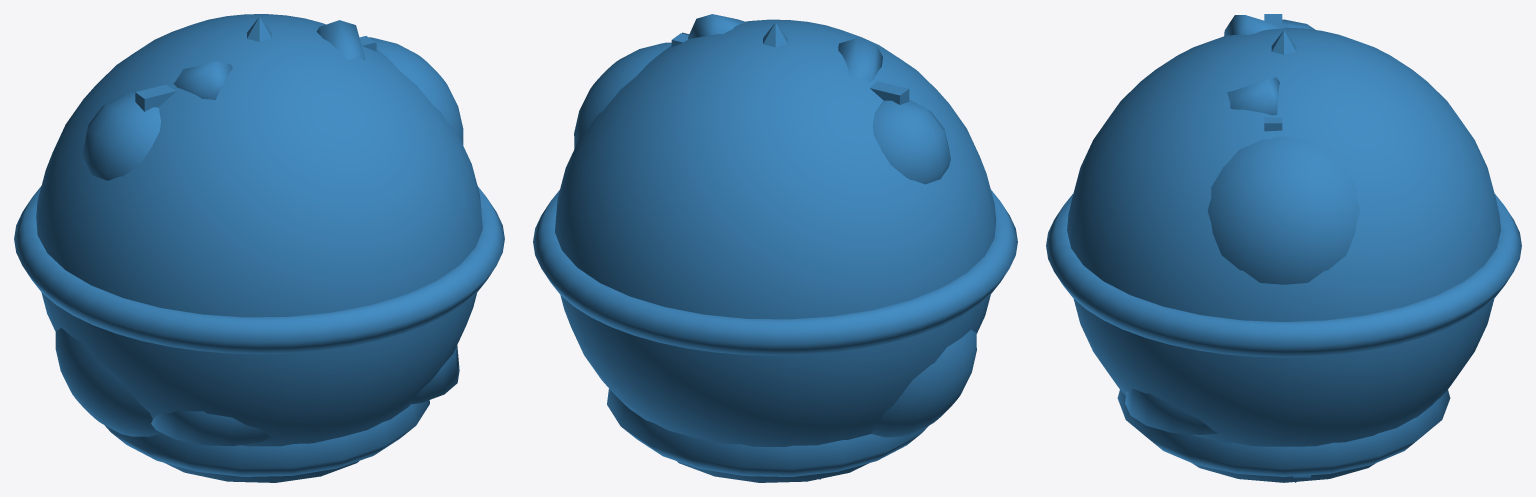
Rendered from nexmed-glyphs.glb.
3 renders of one model, left to right at view 1: azimuth 30°, elevation 25°; view 2: azimuth 150°, elevation 25°; view 3: azimuth 270°, elevation 25°, orthographic. The views are drawn at different scales.
Visible parts, largest first — view 1: GLYPH_disease, GLYPH_trial, GLYPH_treatment, GLYPH_pathway, GLYPH_organization, GLYPH_gene, GLYPH_investigator, GLYPH_study; view 2: GLYPH_disease, GLYPH_trial, GLYPH_treatment, GLYPH_pathway, GLYPH_gene, GLYPH_investigator, GLYPH_study; view 3: GLYPH_disease, GLYPH_treatment, GLYPH_trial, GLYPH_gene, GLYPH_organization, GLYPH_investigator, GLYPH_study.
Part boxes in pixels (left/top/right/bottom): GLYPH_disease: left=14, top=14, right=504, bottom=446; GLYPH_trial: left=104, top=400, right=429, bottom=476; GLYPH_treatment: left=55, top=37, right=463, bottom=436; GLYPH_pathway: left=82, top=92, right=160, bottom=180; GLYPH_organization: left=151, top=345, right=459, bottom=446; GLYPH_gene: left=173, top=20, right=365, bottom=99; GLYPH_investigator: left=165, top=461, right=358, bottom=482; GLYPH_study: left=135, top=36, right=376, bottom=111; GLYPH_disease: left=533, top=19, right=1017, bottom=446; GLYPH_trial: left=607, top=389, right=928, bottom=476; GLYPH_treatment: left=574, top=42, right=976, bottom=437; GLYPH_pathway: left=872, top=100, right=950, bottom=184; GLYPH_gene: left=688, top=14, right=882, bottom=479; GLYPH_investigator: left=677, top=461, right=869, bottom=482; GLYPH_study: left=671, top=32, right=909, bottom=104; GLYPH_disease: left=1046, top=27, right=1521, bottom=446; GLYPH_treatment: left=1207, top=136, right=1360, bottom=284; GLYPH_trial: left=1117, top=390, right=1450, bottom=476; GLYPH_gene: left=1224, top=15, right=1296, bottom=482; GLYPH_organization: left=1125, top=389, right=1218, bottom=434; GLYPH_investigator: left=1192, top=463, right=1375, bottom=482; GLYPH_study: left=1264, top=14, right=1310, bottom=477.
Bounding box in the file's own units: 2 × 2 × 2.
